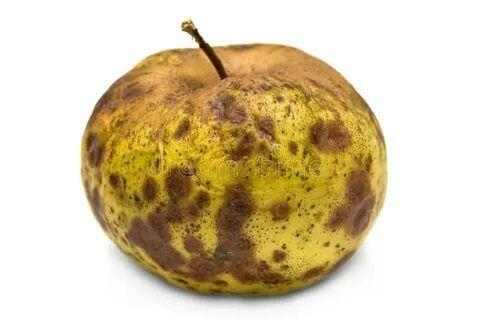Apple: (83, 46, 388, 296)
